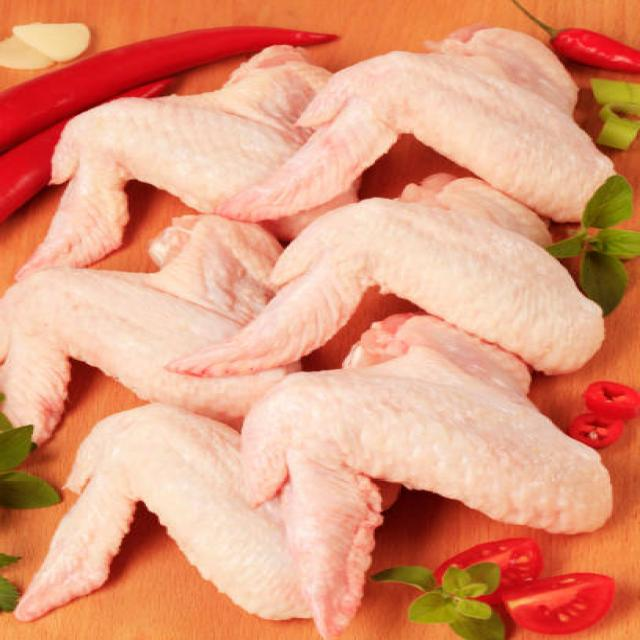Chicken: (271, 362, 619, 590), (296, 30, 596, 212), (34, 413, 279, 632), (265, 192, 583, 344), (0, 263, 254, 408), (36, 87, 218, 267)
